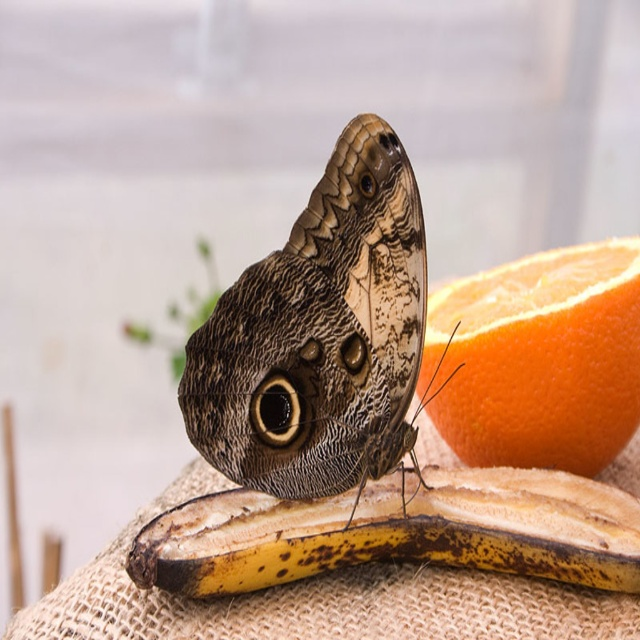Butterfly: (177, 114, 466, 530)
